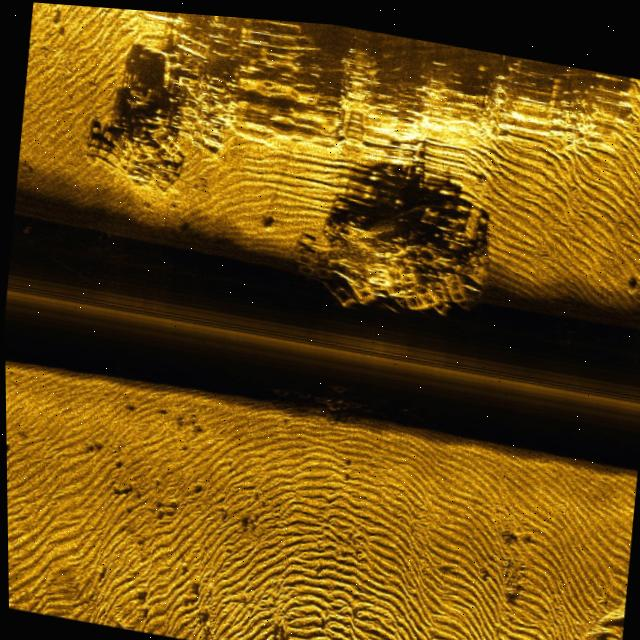artificial reef: (275, 185, 501, 323), (110, 63, 235, 201), (257, 357, 386, 425)
